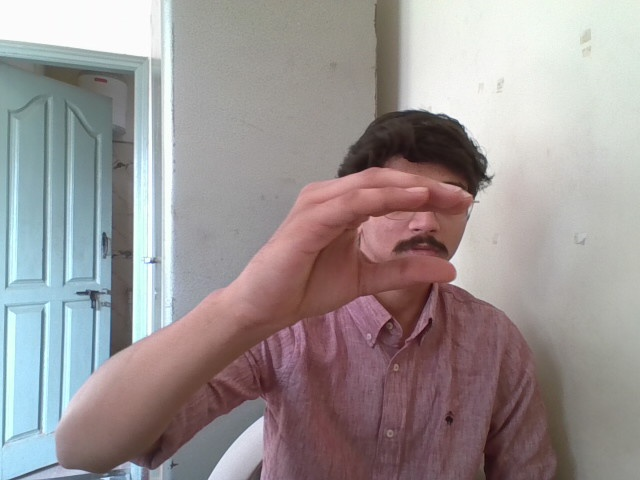no: (244, 174, 483, 292)
